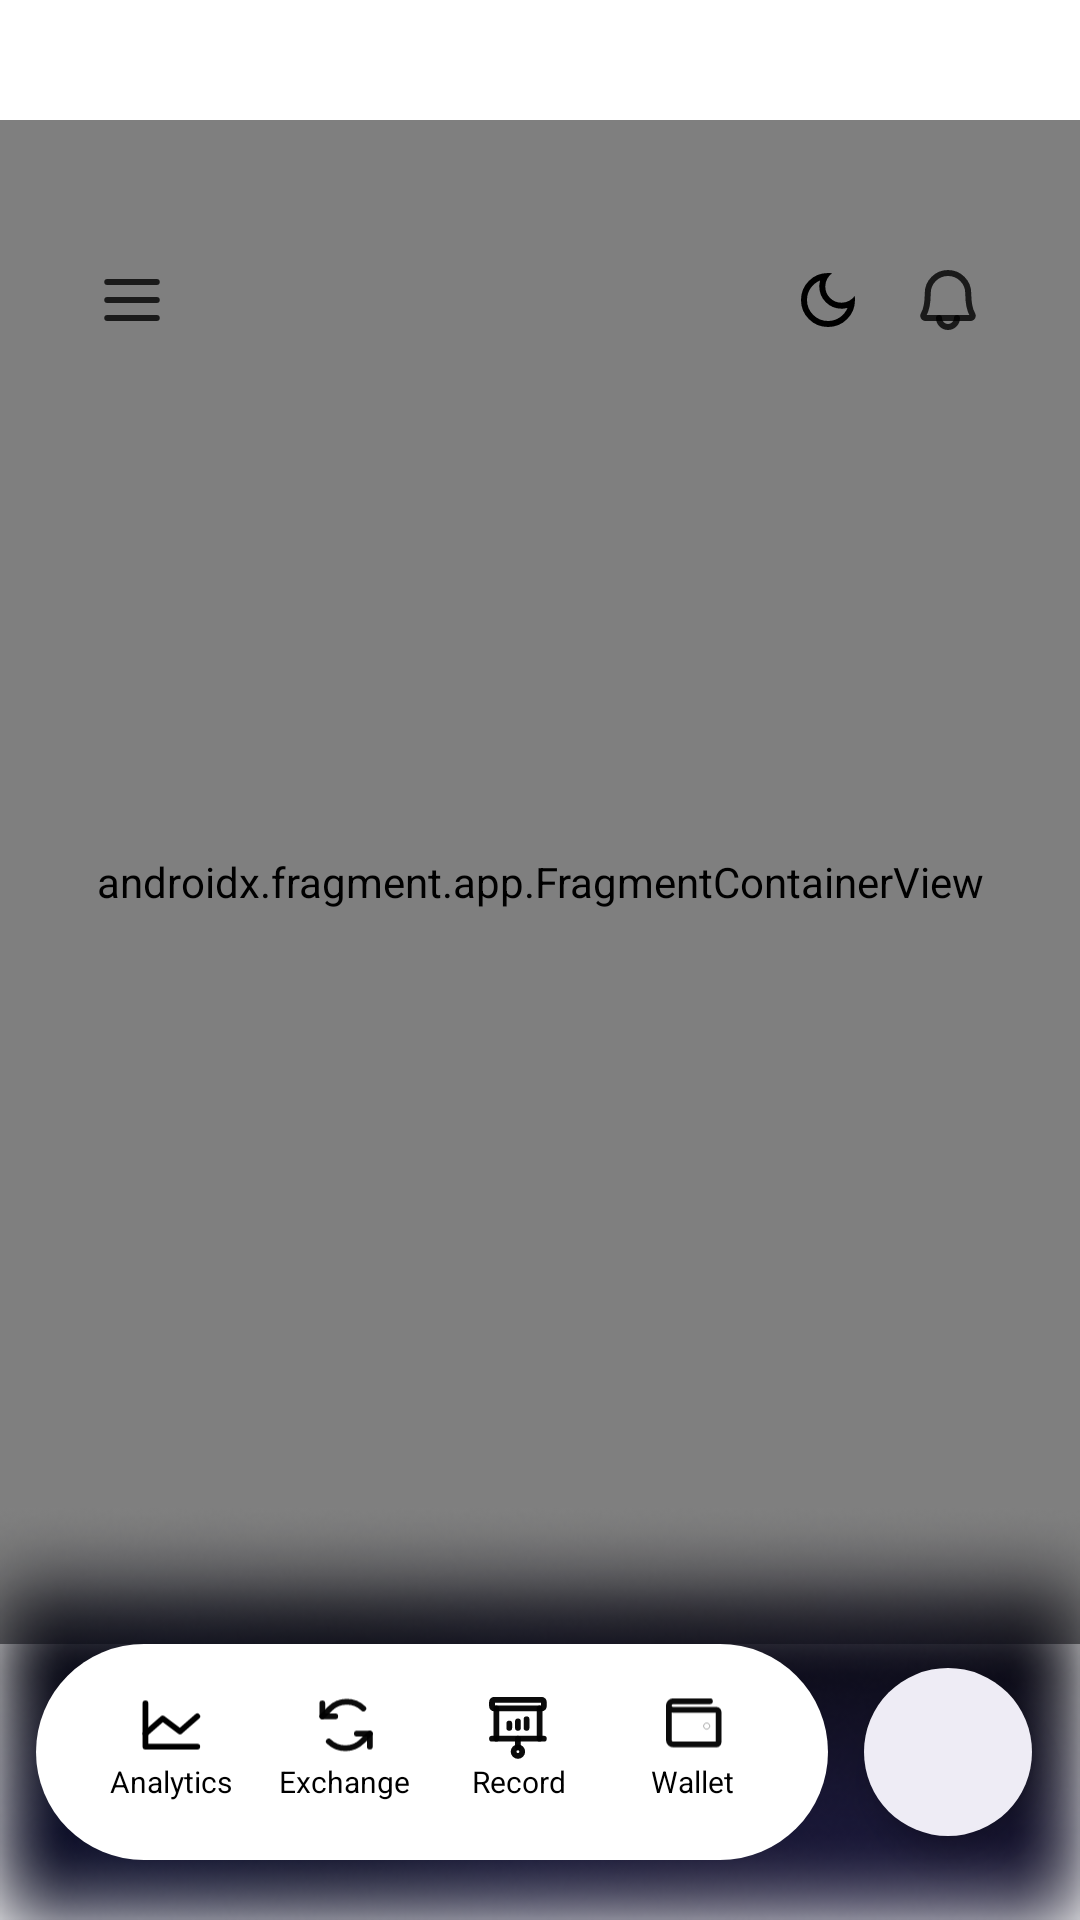

Point at icon controls on the screen. Image size 1080 × 1920, points as (x=x, y=y).
List: (x=132, y=300)
Notifications: (x=948, y=300)
Theme: (x=828, y=300)
